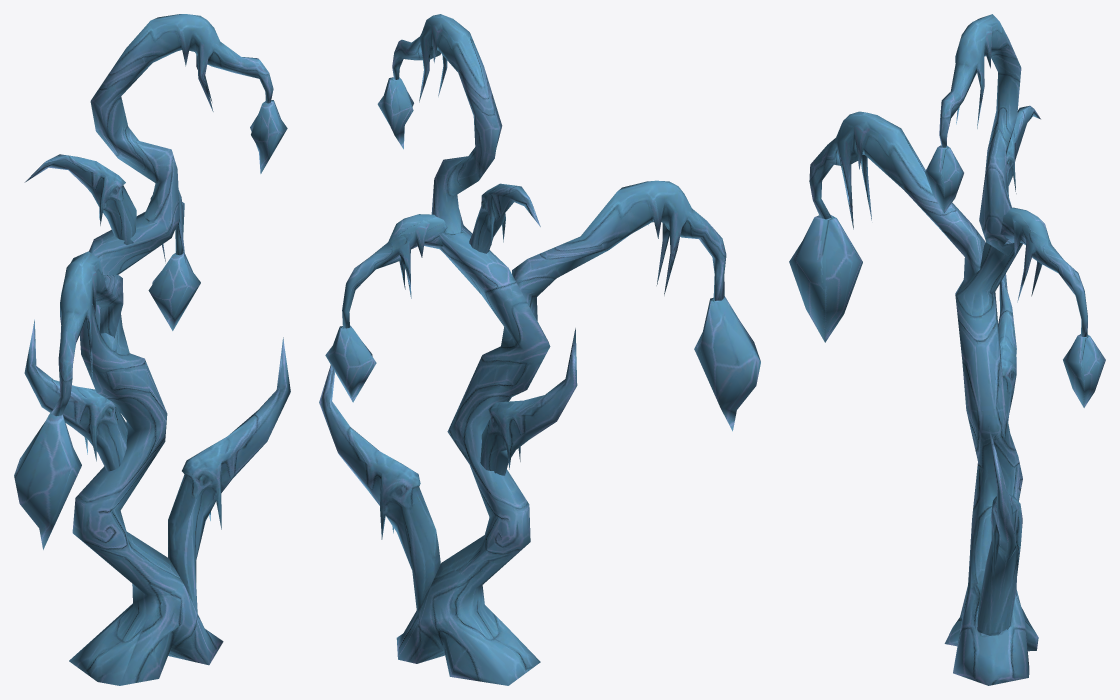
Rendered from tree_space.fbx.
3 renders of one model, left to right at view 1: azimuth 30°, elevation 25°; view 2: azimuth 150°, elevation 25°; view 3: azimuth 270°, elevation 25°, orthographic. The views are drawn at different scales.
Parts seen in each view (by area): view 1: node_id30; view 2: node_id30; view 3: node_id30.
Boxes of the visible parts, bbox=[...] form: node_id30: bbox=[14, 14, 290, 685]; node_id30: bbox=[319, 14, 760, 685]; node_id30: bbox=[789, 14, 1105, 685].
Bounding box in the file's own units: 0.3014 × 0.5107 × 0.2271.
Materials: 1 (1 with a texture image).
